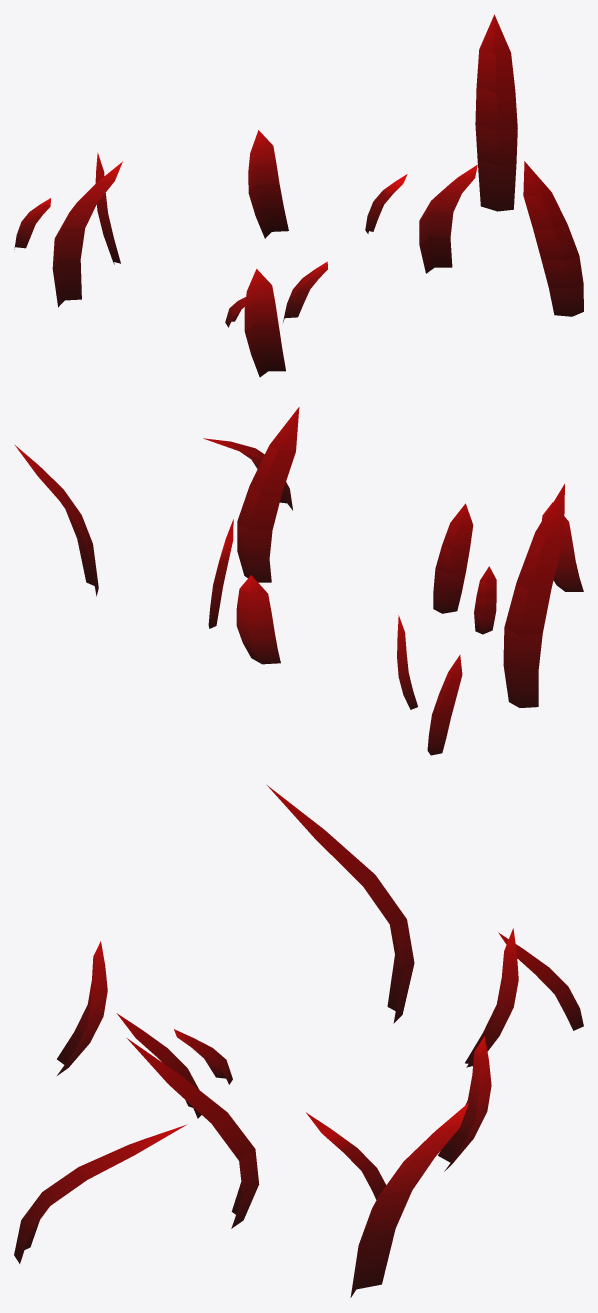
The model's file is Obj_MovingGrass.fbx.
3 views of the same model, one above another, from view 1: azimuth 30°, elevation 25°; view 2: azimuth 150°, elevation 25°; view 3: azimuth 270°, elevation 25° (orthographic). The views are drawn at different scales.
Visible parts, largest first — view 1: Grass; view 2: Grass; view 3: Grass.
Boxes of the visible parts, left/top/right/bottom form: Grass: left=14, top=14, right=583, bottom=377; Grass: left=15, top=407, right=583, bottom=755; Grass: left=14, top=785, right=583, bottom=1297.
Bounding box in the file's own units: 29.45 × 10.38 × 22.75.
